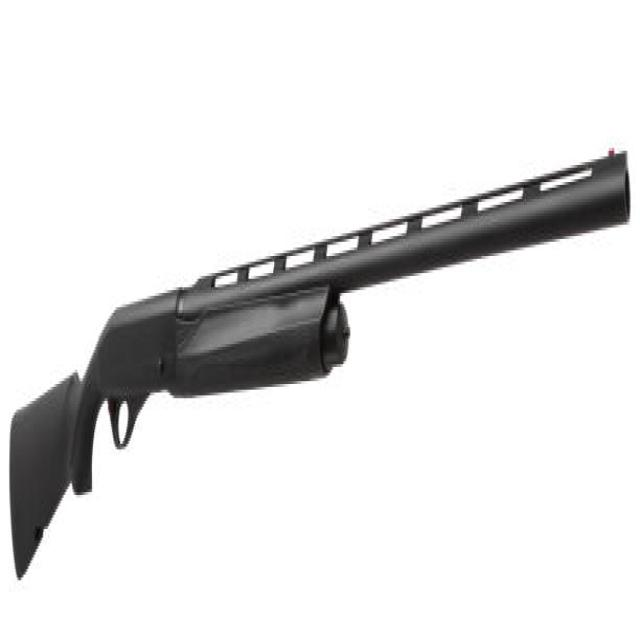rifle: (5, 133, 633, 598)
